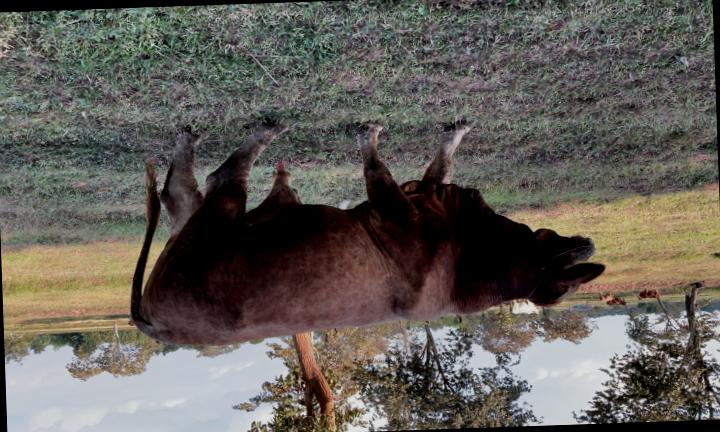Charolais: (131, 122, 605, 345)
